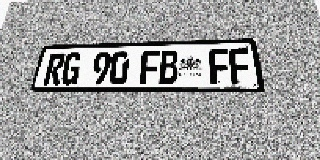0: (108, 51, 130, 85)
9: (90, 52, 112, 85)
B: (159, 50, 178, 84)
F: (228, 48, 253, 84), (209, 49, 231, 84), (140, 50, 160, 84)
G: (60, 53, 83, 85)
R: (43, 53, 66, 85)
